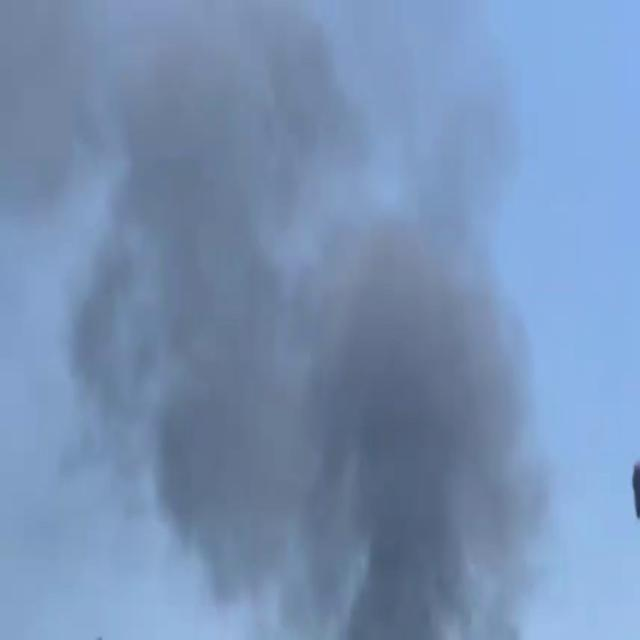smoke: (125, 78, 537, 590)
